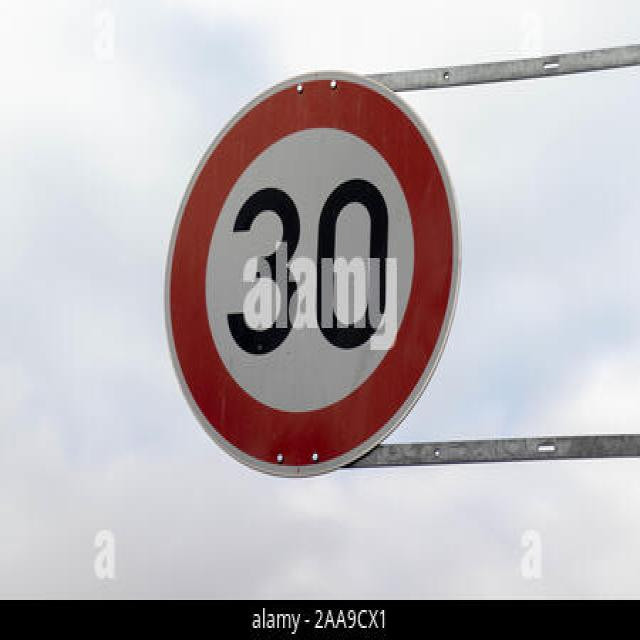speed_30: (166, 69, 460, 480)
